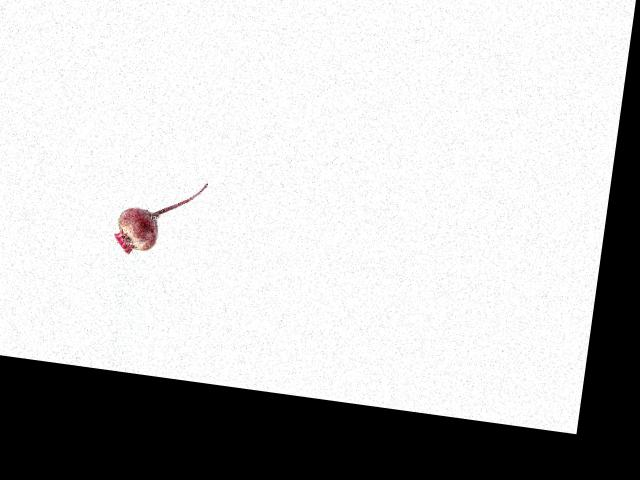beet: (112, 171, 208, 263)
